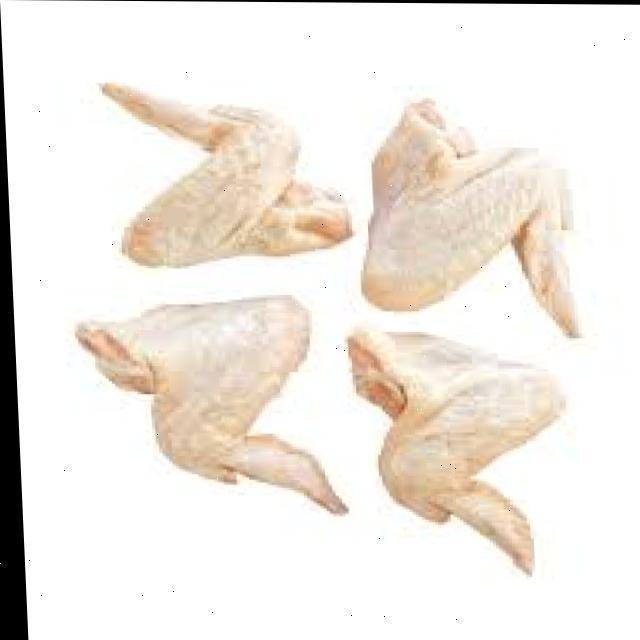wing: (68, 292, 346, 527), (336, 327, 574, 572), (352, 95, 590, 338), (91, 78, 352, 270)
